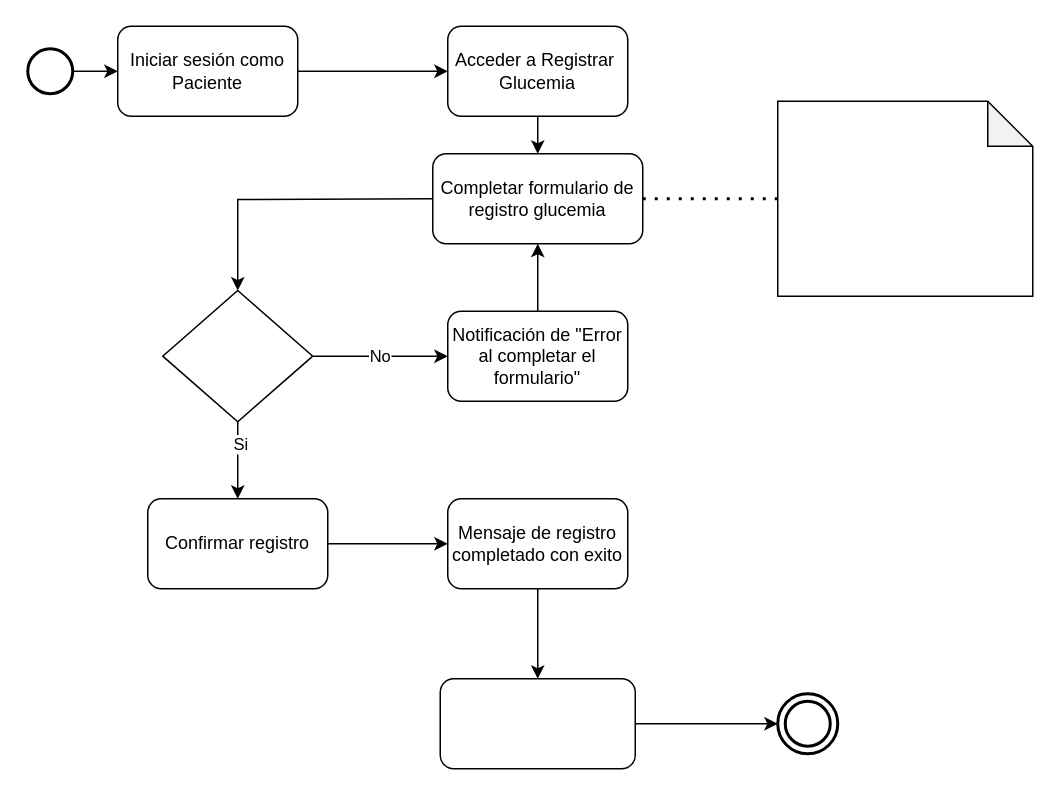
The diagram is 1059 pixels wide and 795 high, and some of its shapes have lost their labels. The box of each missing label's shape, as (x1, y1, x2, y2) in pixels:
Campos desplegados: - Glucemia: (776, 100, 1033, 296)
Registro de glucemia en base de datos: (439, 677, 635, 769)
Validador de formulario: (161, 289, 313, 422)
